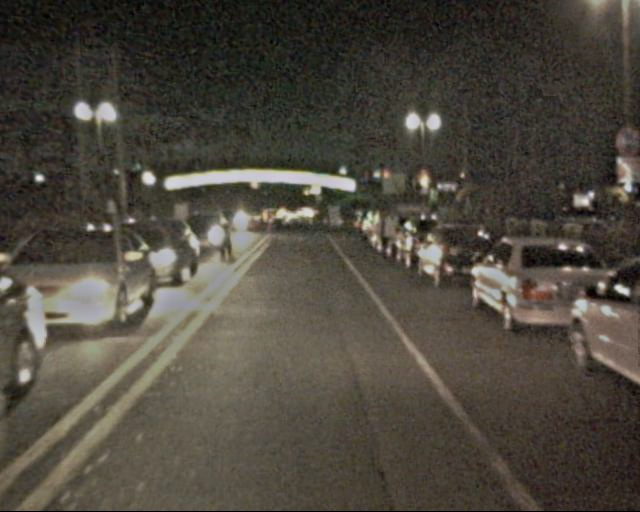person: (371, 206, 395, 265)
